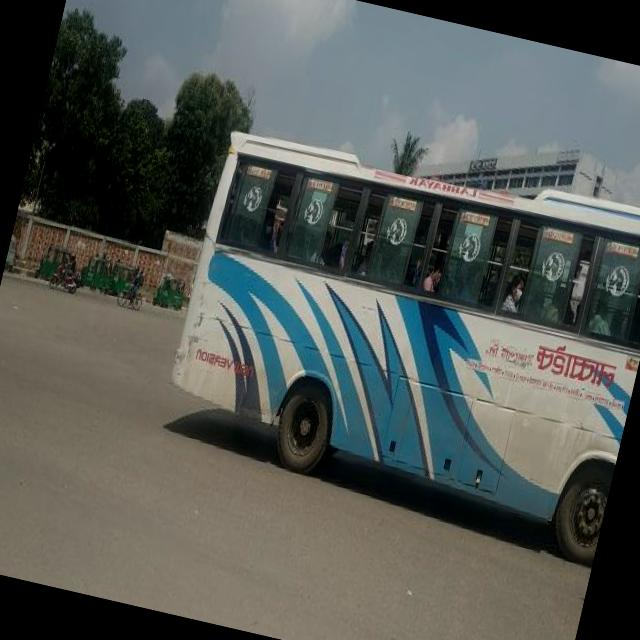bus: (147, 104, 640, 569)
motorcycle: (32, 241, 73, 285), (78, 252, 115, 296), (152, 270, 188, 310), (47, 260, 84, 294), (110, 260, 134, 294)
